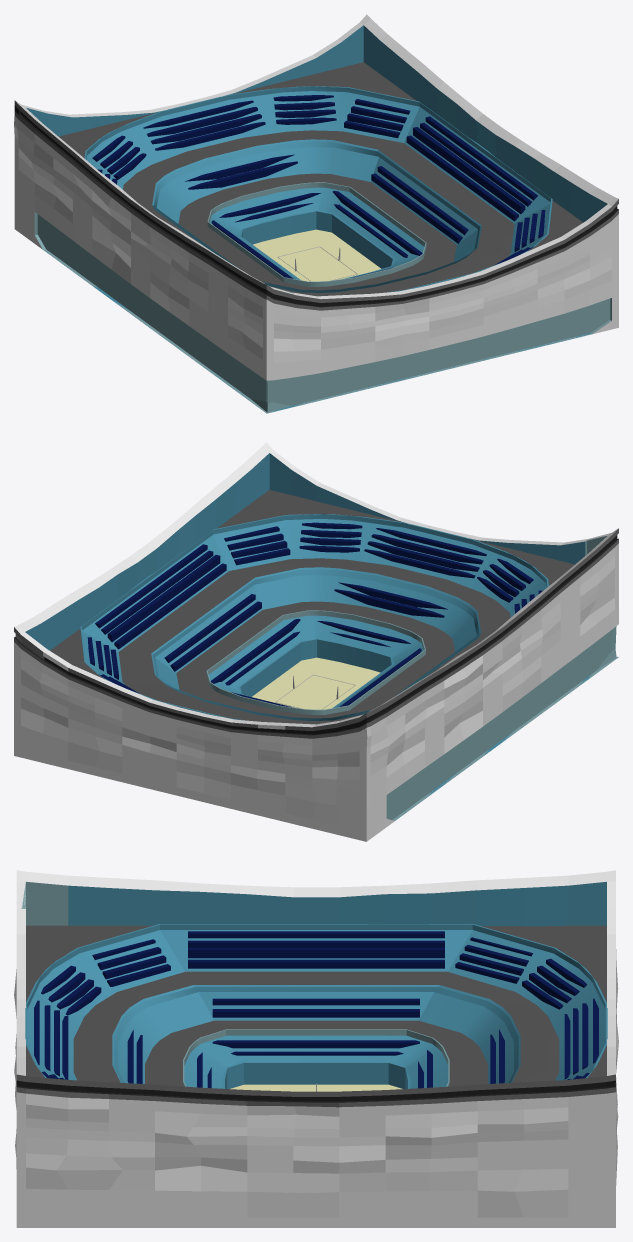
Rendered from AriakeStadium(BeachVolleyball).fbx.
The picture shows the model from 3 angles, top to bottom: view 1: azimuth 30°, elevation 25°; view 2: azimuth 150°, elevation 25°; view 3: azimuth 270°, elevation 25°; orthographic projection. The views are drawn at different scales.
Visible parts, largest first — view 1: pCube3, pCube2, pCube6, pCube14, pCube15, pCube12, pCube13, pCube5, pCube53, pCube73, pCube45, pCube4 (+7 smaller); view 2: pCube3, pCube2, pCube4, pCube14, pCube15, pCube12, pCube13, pCube7, pCube53, pCube59, pCube22, pCube6 (+6 smaller); view 3: pCube3, pCube2, pCube7, pCube9, pCube5, pCube8, pCube10, pCube11, pCube56, pCube25, pCube57, pCube24 (+4 smaller).
Part boxes in pixels (x1,y1,x2,y2): pCube3: [14, 14, 618, 413]; pCube2: [84, 86, 552, 296]; pCube6: [234, 62, 415, 100]; pCube14: [413, 127, 525, 213]; pCube15: [406, 135, 518, 221]; pCube12: [425, 116, 537, 200]; pCube13: [420, 123, 531, 206]; pCube5: [58, 112, 156, 158]; pCube53: [371, 173, 462, 243]; pCube73: [188, 161, 297, 189]; pCube45: [150, 114, 261, 144]; pCube4: [528, 201, 583, 251]; pCube3: [14, 442, 618, 841]; pCube2: [80, 514, 548, 724]; pCube4: [217, 490, 399, 528]; pCube14: [107, 555, 220, 642]; pCube15: [114, 563, 226, 649]; pCube12: [95, 544, 207, 628]; pCube13: [101, 550, 213, 634]; pCube7: [477, 540, 574, 585]; pCube53: [170, 601, 261, 671]; pCube59: [334, 589, 444, 617]; pCube22: [367, 541, 479, 571]; pCube6: [50, 629, 104, 679]; pCube3: [14, 870, 618, 1227]; pCube2: [25, 924, 607, 1091]; pCube7: [26, 925, 152, 1001]; pCube9: [188, 947, 444, 958]; pCube5: [481, 925, 606, 1002]; pCube8: [188, 959, 444, 968]; pCube10: [188, 940, 444, 947]; pCube11: [188, 931, 444, 938]; pCube56: [212, 1009, 419, 1017]; pCube25: [212, 1040, 419, 1048]; pCube57: [212, 998, 419, 1005]; pCube24: [231, 1051, 403, 1055].
Bounding box in the file's own units: 17.46 × 5.96 × 21.32.
